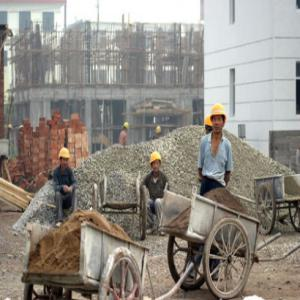yellow: (211, 103, 228, 135), (149, 151, 162, 174), (58, 149, 71, 170), (205, 117, 214, 135), (123, 123, 129, 133), (157, 125, 162, 137)
